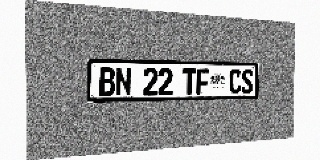2: (143, 68, 158, 95), (159, 68, 173, 95)
B: (99, 67, 115, 96)
C: (229, 69, 241, 94)
F: (196, 69, 209, 94)
N: (116, 67, 131, 96)
S: (241, 69, 253, 94)
T: (183, 68, 196, 95)
